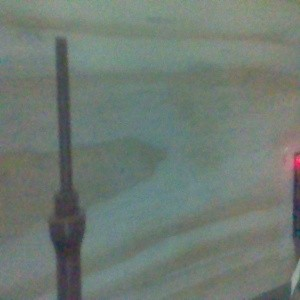obeng: (46, 36, 87, 300)
